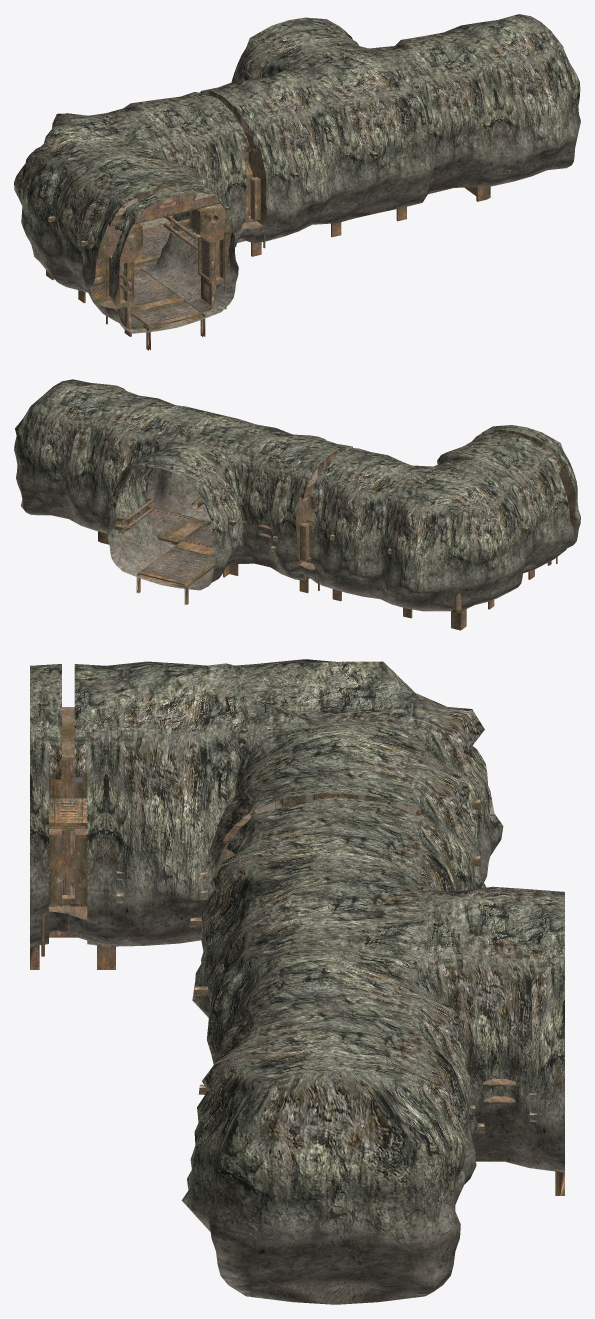
File: poi_all_bunker_mad_bio_s01_r11_hall3_mesh_r11.fbx
3 views of the same model, one above another, from view 1: azimuth 30°, elevation 25°; view 2: azimuth 150°, elevation 25°; view 3: azimuth 270°, elevation 25° (orthographic). The views are drawn at different scales.
Visible parts, largest first — view 1: mesh_node; view 2: mesh_node; view 3: mesh_node.
Part boxes in pixels (box(x1,y1,x2,y2)): mesh_node: box(14, 14, 580, 350); mesh_node: box(14, 379, 580, 630); mesh_node: box(30, 659, 564, 1304).
Size of the model in its own units: 28.88 by 7.73 by 14.
